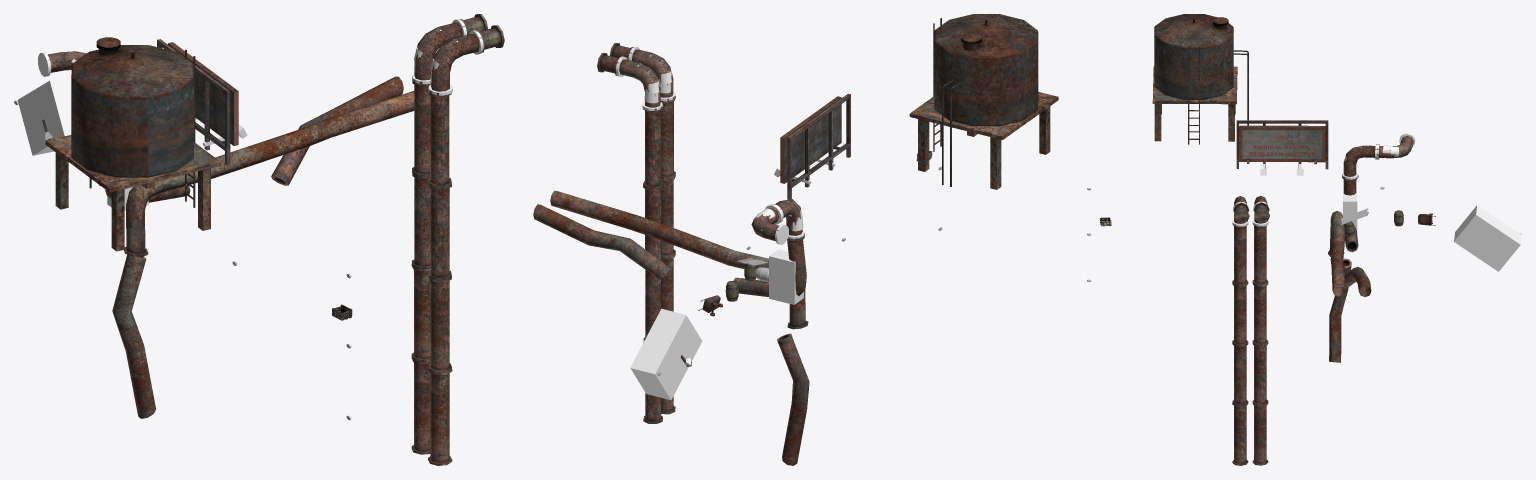
Rendered from Props Front(Clone)_A4.fbx.
3 renders of one model, left to right at view 1: azimuth 30°, elevation 25°; view 2: azimuth 150°, elevation 25°; view 3: azimuth 270°, elevation 25°, orthographic. The views are drawn at different scales.
Visible parts, largest first — view 1: RustedIndustrialTank, Pipe_Long (×8), Pipe_Broken_01, Pipe_Broken_02 (×2), TankBase, SICA_Hoarding, Pipe_Connector (×3), Cube; view 2: RustedIndustrialTank, Pipe_Long (×6), Pipe_Broken_02 (×2), Pipe_Broken_01, SICA_Hoarding, Cube, TankBase, Pipe_Connector (×3), Cube (1), Pipe_Broken_03; view 3: Pipe_Long (×8), RustedIndustrialTank, SICA_Hoarding, Cube, Pipe_Broken_02 (×2), TankBase, Pipe_Broken_01, Pipe_Connector, TankLadder, Pipe_Broken_03.
Boxes of the visible parts, x1,y1,x2,y2 form: RustedIndustrialTank: (71,37,194,177); Pipe_Long (×8): (411,78,452,465); Pipe_Broken_01: (123,91,414,256); Pipe_Broken_02 (×2): (112,76,403,418); TankBase: (45,135,220,251); SICA_Hoarding: (157,39,238,165); Pipe_Connector (×3): (47,20,481,95); Cube: (17,76,71,155); RustedIndustrialTank: (934,14,1038,126); Pipe_Long (×6): (643,95,675,341); Pipe_Broken_02 (×2): (533,204,809,465); Pipe_Broken_01: (550,190,808,329); SICA_Hoarding: (780,93,850,199); Cube: (630,308,702,400); TankBase: (909,92,1058,189); Pipe_Connector (×3): (617,47,779,243); Cube (1): (769,249,803,304); Pipe_Broken_03: (733,233,806,296); Pipe_Long (×8): (1232,224,1268,465); RustedIndustrialTank: (1154,14,1233,99); SICA_Hoarding: (1236,120,1328,169); Cube: (1454,205,1521,271); Pipe_Broken_02 (×2): (1329,258,1371,362); TankBase: (1152,66,1237,141); Pipe_Broken_01: (1328,211,1345,296); Pipe_Connector: (1342,144,1376,178); TankLadder: (1188,46,1199,144); Pipe_Broken_03: (1342,175,1358,252).
Bounding box in the file's own units: 21.54 × 23.36 × 27.41.
